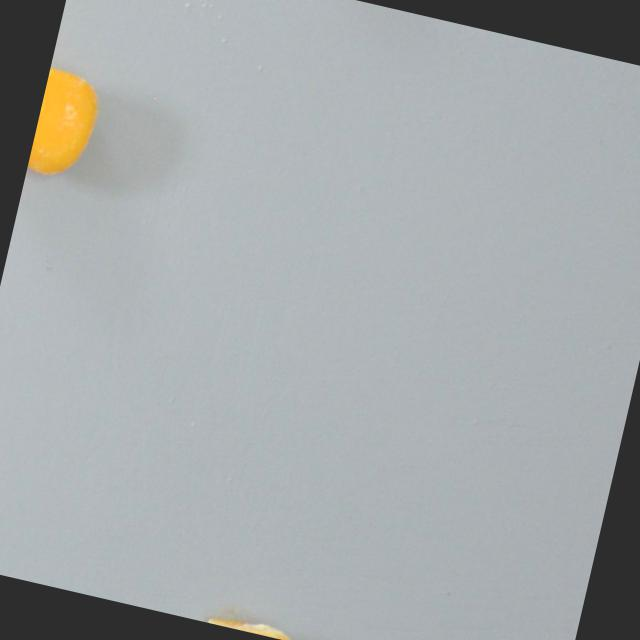pelicula: (26, 65, 104, 183), (202, 610, 307, 640)
